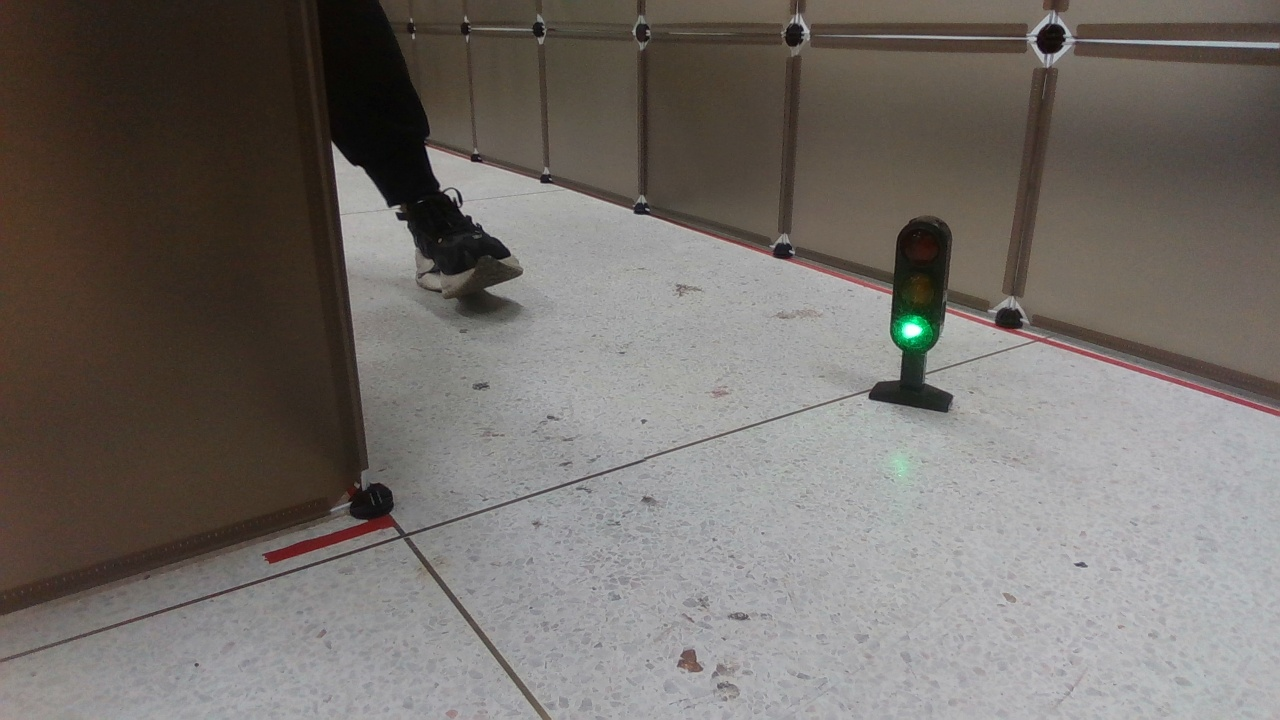Green traffic light: (869, 213, 956, 413)
